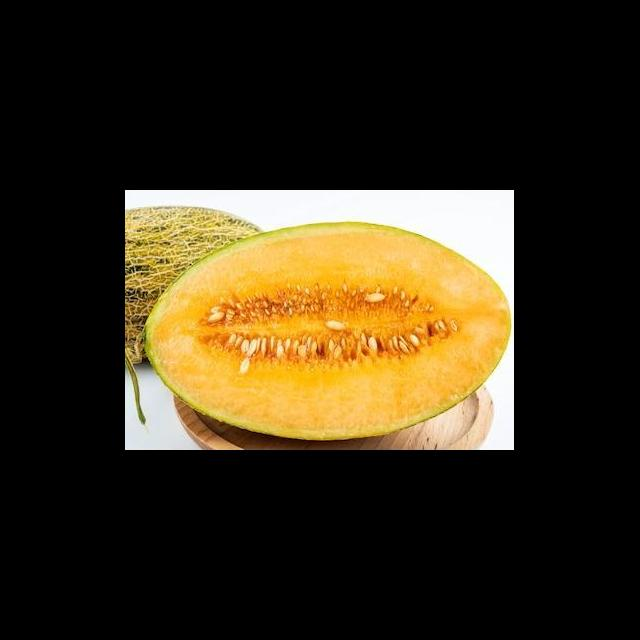Hami Melon: (147, 221, 511, 441)
